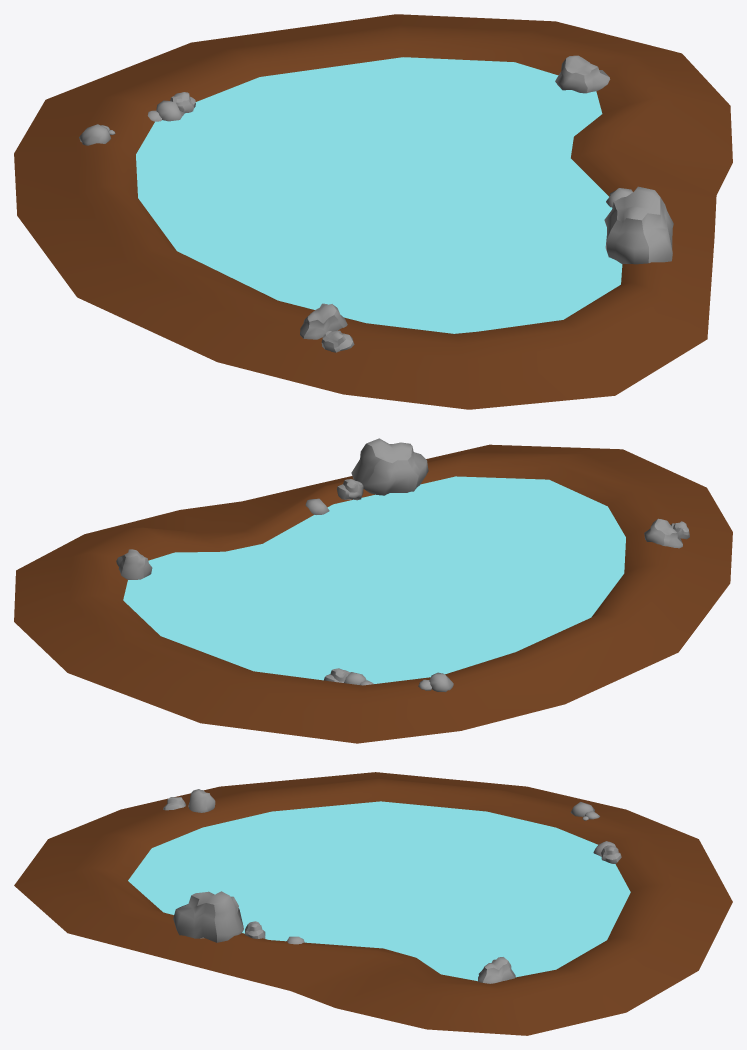
File: WaterPond01.fbx
The picture shows the model from 3 angles, top to bottom: view 1: azimuth 30°, elevation 25°; view 2: azimuth 150°, elevation 25°; view 3: azimuth 270°, elevation 25°; orthographic projection. The views are drawn at different scales.
Parts seen in each view (by area): view 1: Plane001, Box001, Box024, Box007; view 2: Plane001, Box001, Box024, Box007; view 3: Plane001, Box001, Box024, Box007.
Part boxes in pixels (left/top/right/bottom): Plane001: left=14, top=14, right=732, bottom=409; Box001: left=604, top=186, right=673, bottom=264; Box024: left=555, top=55, right=610, bottom=93; Box007: left=300, top=303, right=347, bottom=339; Plane001: left=14, top=444, right=732, bottom=743; Box001: left=351, top=438, right=428, bottom=495; Box024: left=116, top=549, right=152, bottom=579; Box007: left=644, top=518, right=682, bottom=548; Plane001: left=14, top=772, right=732, bottom=1035; Box001: left=173, top=891, right=243, bottom=942; Box024: left=478, top=957, right=515, bottom=983; Box007: left=188, top=789, right=215, bottom=812.
Size of the model in its own units: 95.3 by 8.93 by 110.
